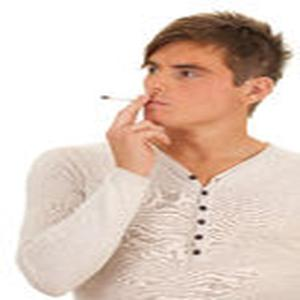cigarette: (99, 93, 154, 105)
